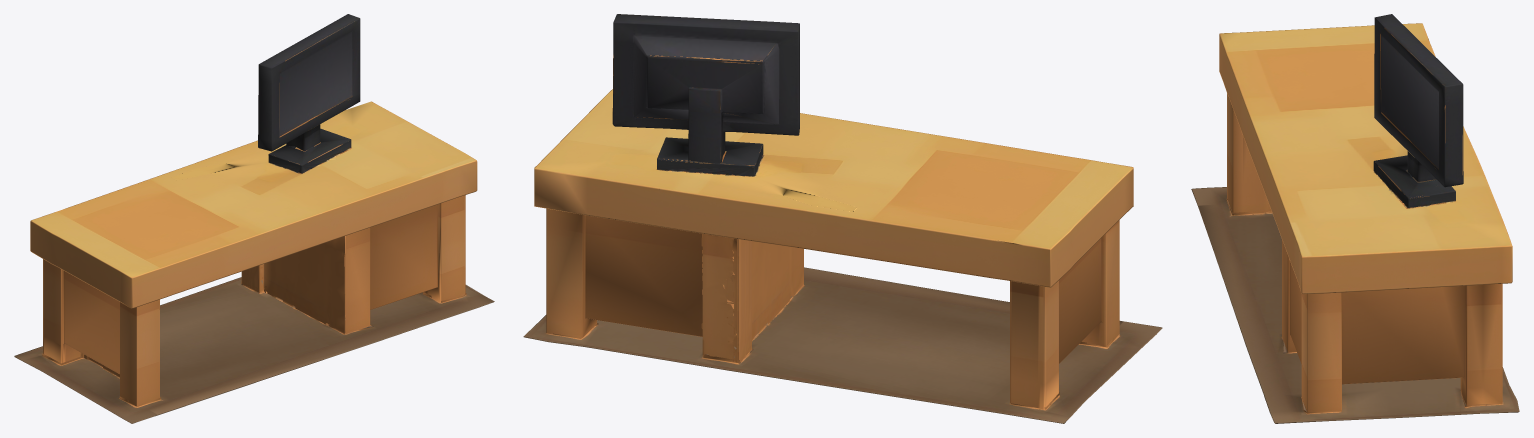
File: Desk.fbx
The picture shows the model from 3 angles, left to right: view 1: azimuth 30°, elevation 25°; view 2: azimuth 150°, elevation 25°; view 3: azimuth 270°, elevation 25°; orthographic projection. The views are drawn at different scales.
Visible parts, largest first — view 1: tripo_part_4, tripo_part_2, tripo_part_7; view 2: tripo_part_4, tripo_part_2, tripo_part_7; view 3: tripo_part_4, tripo_part_2, tripo_part_7.
Part boxes in pixels (x1,y1,x2,y2): tripo_part_4: (30,101,477,406); tripo_part_2: (14,277,494,423); tripo_part_7: (258,14,360,173); tripo_part_4: (534,89,1133,410); tripo_part_2: (523,267,1162,423); tripo_part_7: (612,14,799,176); tripo_part_4: (1219,23,1512,412); tripo_part_2: (1191,187,1519,423); tripo_part_7: (1373,14,1463,208).
Size of the model in its own units: 1 by 0.5739 by 0.5656.
